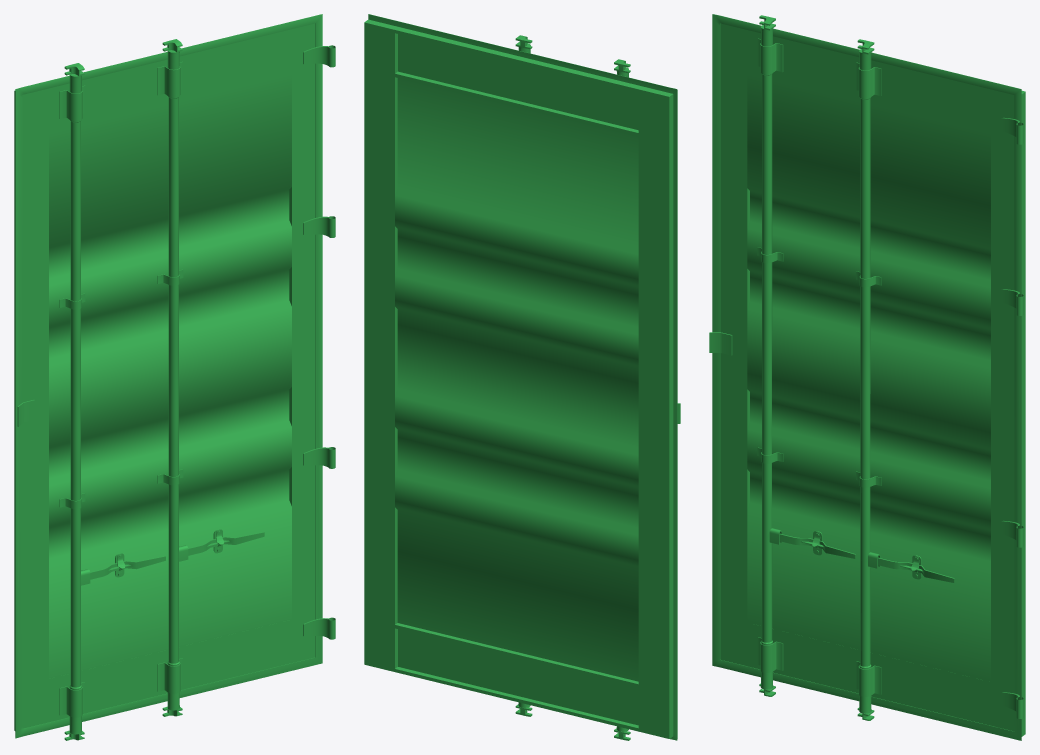
File: SM_ShipContainer_DoorR.fbx
3 renders of one model, left to right at view 1: azimuth 30°, elevation 25°; view 2: azimuth 150°, elevation 25°; view 3: azimuth 330°, elevation 25°, orthographic.
Parts seen in each view (by area): view 1: ShipContainer_DoorR; view 2: ShipContainer_DoorR; view 3: ShipContainer_DoorR.
Boxes of the visible parts, x1,y1,x2,y2 form: ShipContainer_DoorR: (14, 14, 335, 740); ShipContainer_DoorR: (364, 14, 680, 740); ShipContainer_DoorR: (709, 14, 1025, 740).
Bounding box in the file's own units: 123 × 251 × 7.74.
